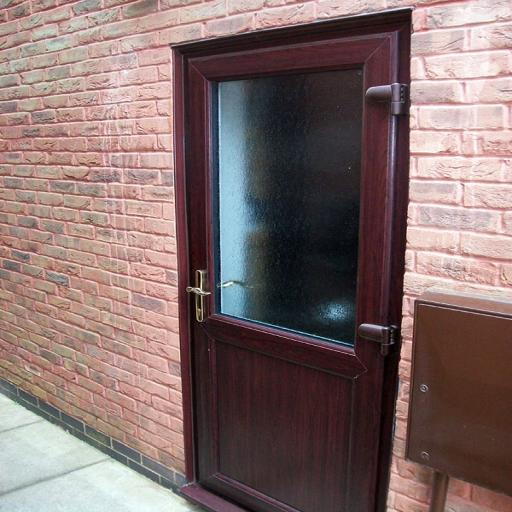Door: (170, 6, 415, 512)
